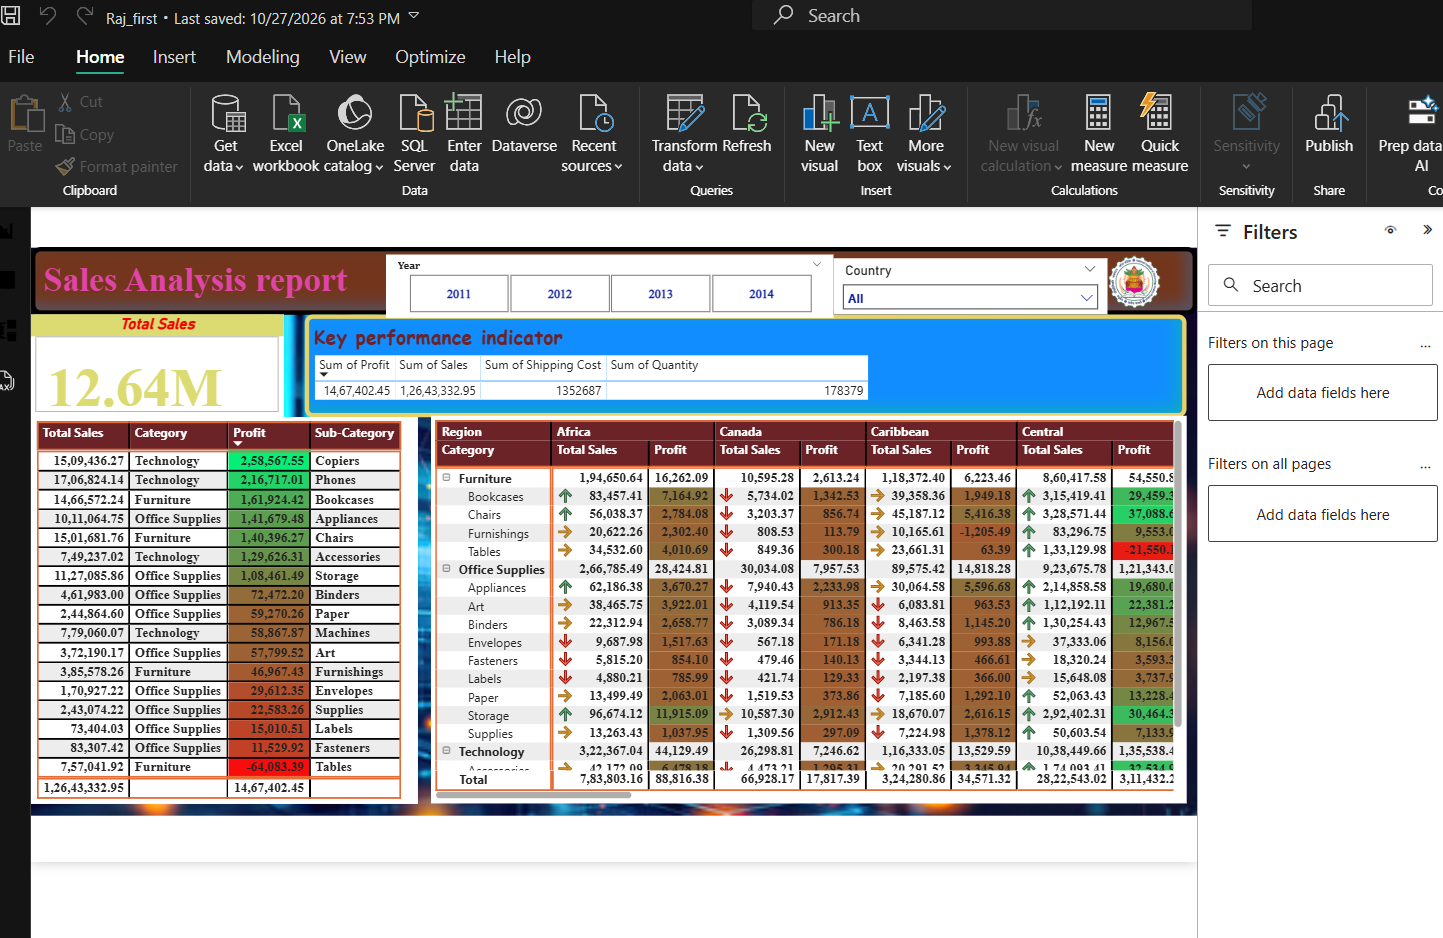

This screenshot's page, from the dashboard's own definition file:
{"tool":"powerbi","page":{"name":"Sales Analysis","canvas":[1280,720],"ordinal":0},"visuals":[{"type":"textbox","box":[0,43.9,1280.3,74.1],"z":0},{"type":"image","box":[1141.7,46.7,138.6,71.4],"z":1000},{"type":"cardVisual","title":"Total Sales","fields":{"Data":["Sum(Orders.Sales)"]},"box":[0,117.8,277.3,112.9],"z":2000},{"type":"tableEx","title":"Key performance indicator","fields":{"Values":["Sum(Orders.Profit)","Sum(Orders.Sales)","Sum(Orders.Shipping Cost)","Sum(Orders.Quantity)"]},"box":[300.6,117.8,968.1,112.9],"z":3000},{"type":"tableEx","fields":{"Values":["Sum(Orders.Sales)","Orders.Category","Sum(Orders.Profit)","Orders.Sub-Category"]},"box":[0,230.7,424.5,424.5],"z":4000},{"type":"pivotTable","fields":{"Rows":["Orders.Category","Orders.Sub-Category"],"Columns":["Orders.Region"],"Values":["Sum(Orders.Sales)","Sum(Orders.Profit)"]},"box":[439.3,229.4,829.5,425.8],"z":5000},{"type":"slicer","fields":{"Values":["Orders.Country"]},"box":[881,56.4,300.6,61.4],"z":6000},{"type":"slicer","fields":{"Values":["Orders.Order Date.Variation.Date Hierarchy.Year"]},"box":[390.2,51.5,490.8,69.9],"z":7000}]}

Visuals, with their boxes on the page's 1280x720 design canvas (x1, y1, x2, y2). These are canvas units, not pixel positions in the 1443x938 screenshot, which may show the page scaled, cropped or inside an application window:
textbox: x1=0 y1=44 x2=1280 y2=118
image: x1=1142 y1=47 x2=1280 y2=118
"Total Sales" cardVisual: x1=0 y1=118 x2=277 y2=231
"Key performance indicator" tableEx: x1=301 y1=118 x2=1269 y2=231
tableEx - Sum(Orders.Sales) x Orders.Category: x1=0 y1=231 x2=424 y2=655
pivotTable - Orders.Category x Orders.Sub-Category: x1=439 y1=229 x2=1269 y2=655
slicer - Orders.Country: x1=881 y1=56 x2=1182 y2=118
slicer - Orders.Order Date.Variation.Date Hierarchy.Year: x1=390 y1=52 x2=881 y2=121
